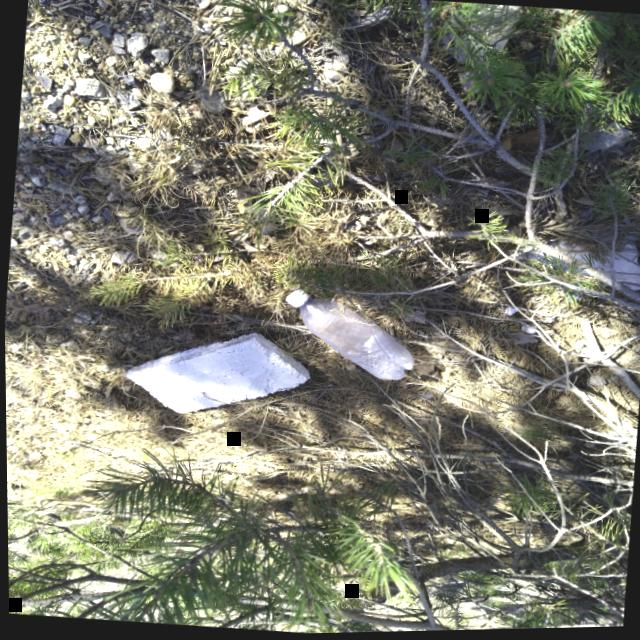Clear plastic bottle: (283, 288, 412, 381)
Plastic bottle cap: (284, 288, 304, 305)
Plastic film: (441, 5, 521, 92)
Styrofoam piece: (123, 333, 308, 412), (501, 308, 515, 317)
